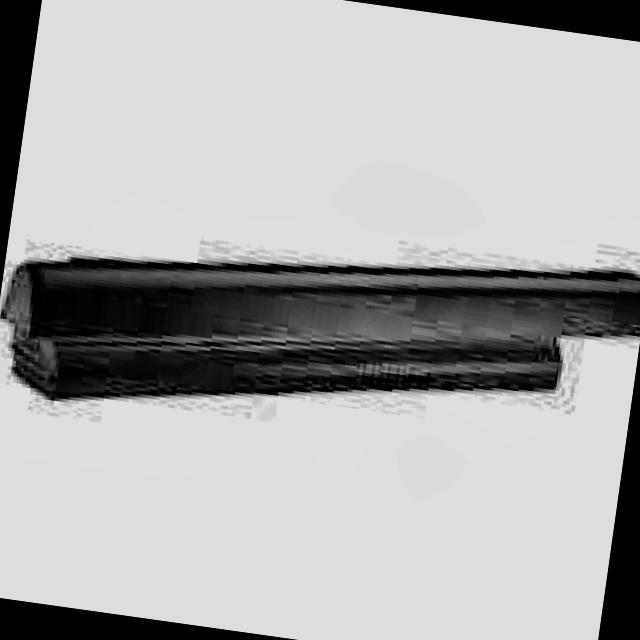Battery: (0, 188, 640, 477)
